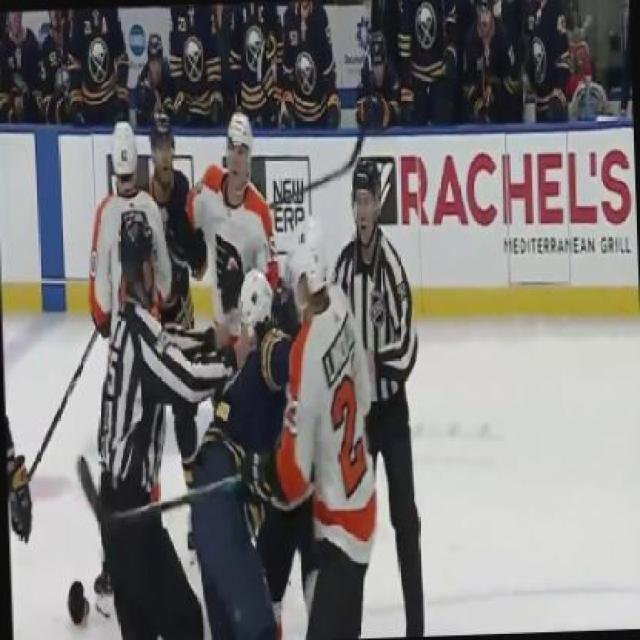fight: (180, 262, 325, 638)
